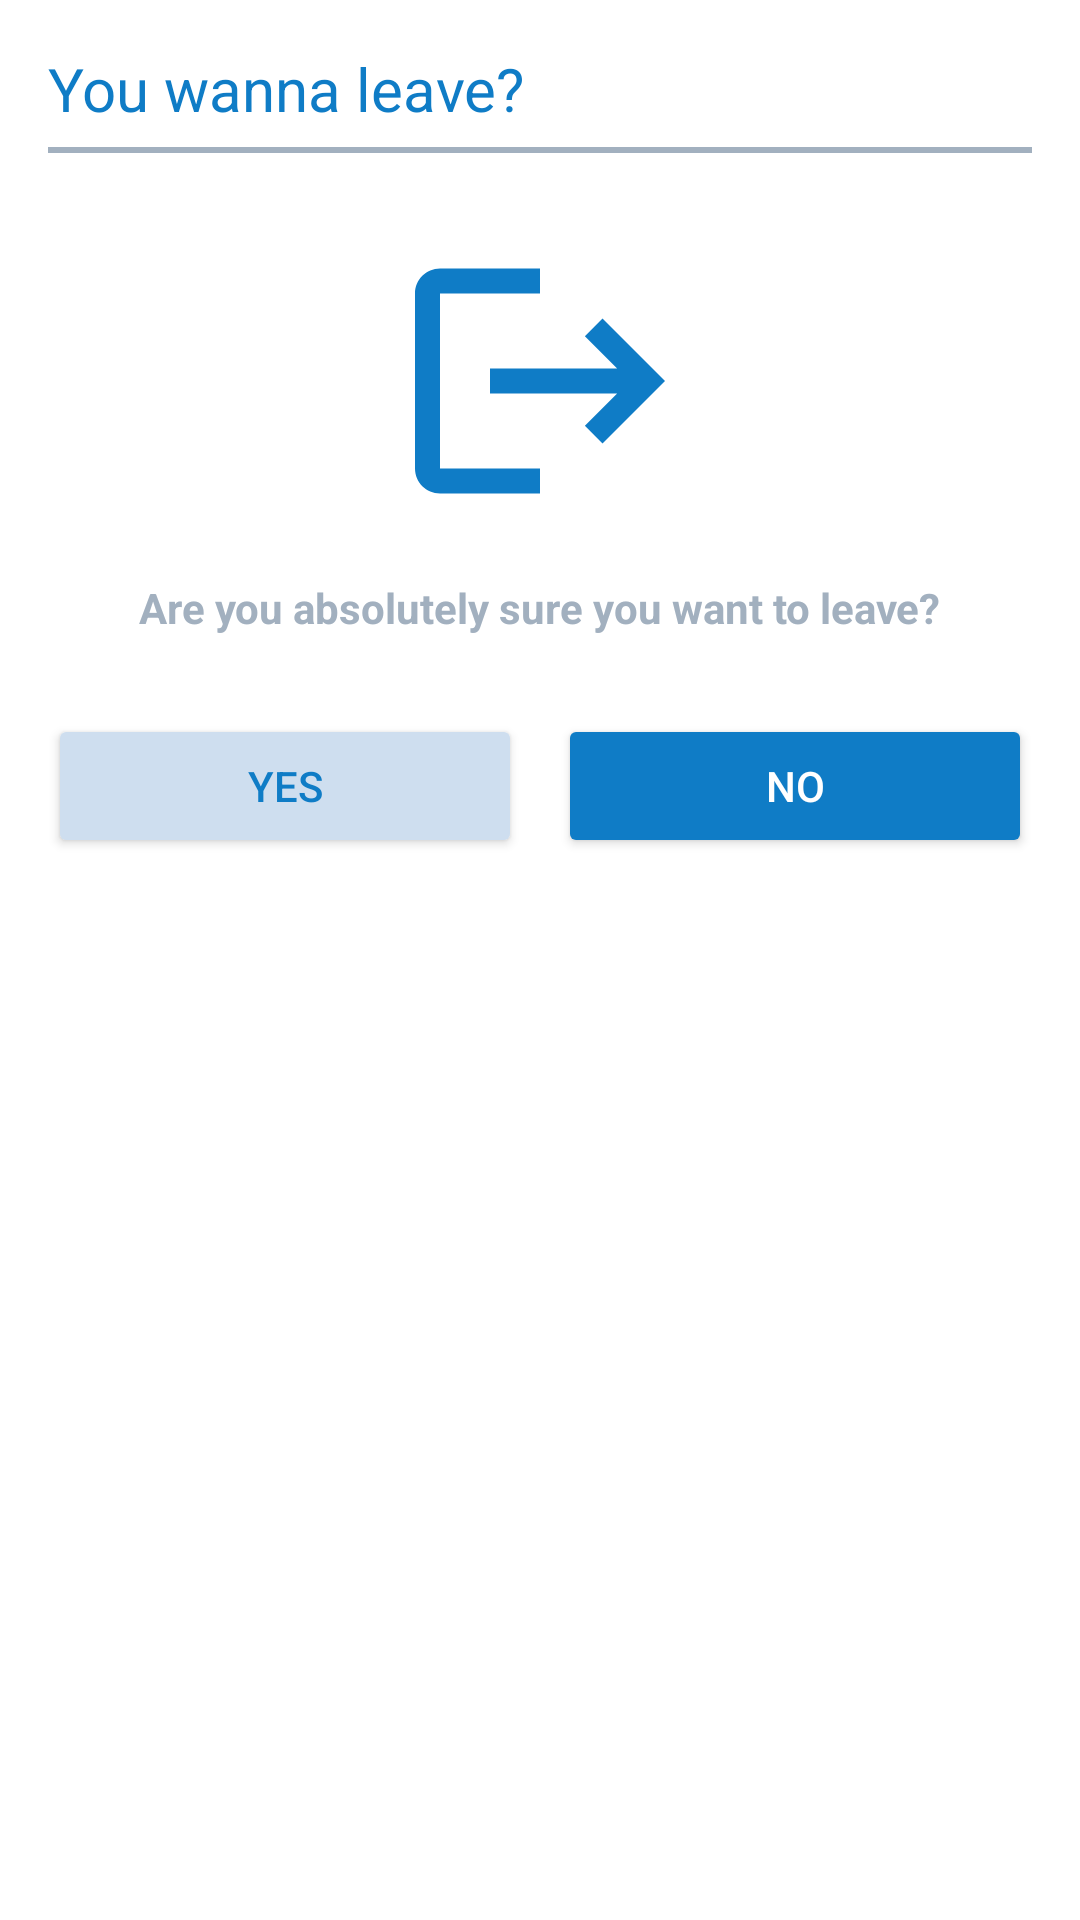

Screen size 1080×1920. Icon name, then its center in pixels as (x,y):
log out: (540,381)
